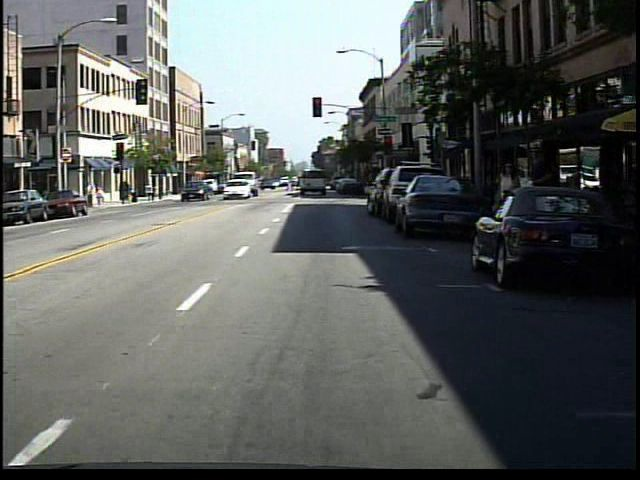person: (522, 140, 558, 258), (495, 155, 523, 254), (83, 178, 99, 210), (97, 183, 110, 210)
